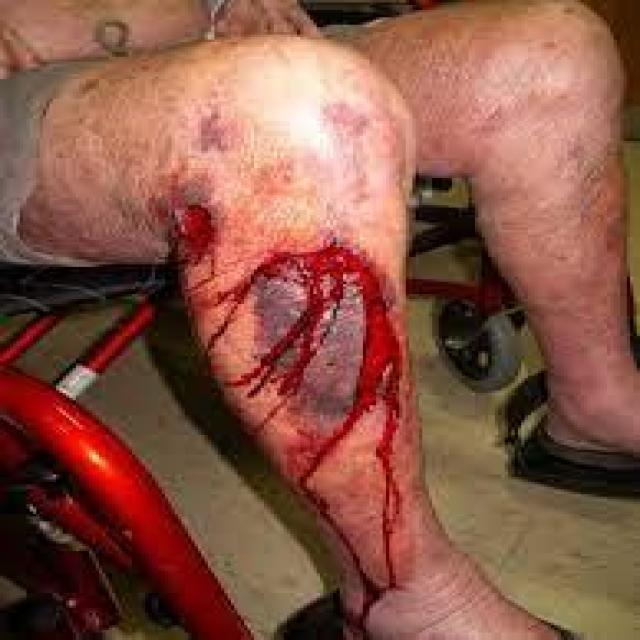flood: (226, 237, 407, 502)
